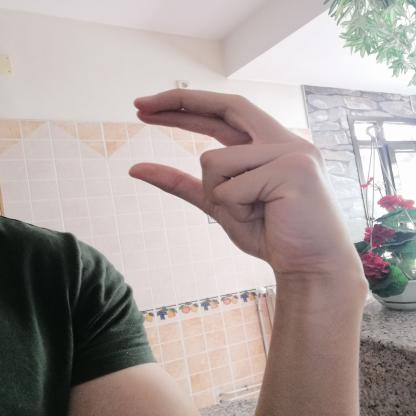DHELL: (115, 80, 370, 273)
